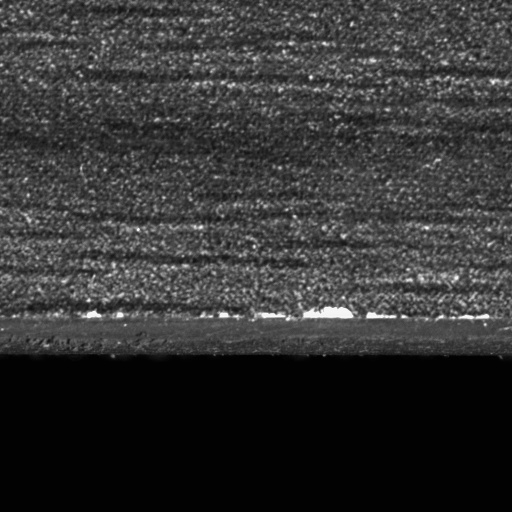huashang: (302, 305, 354, 320)
